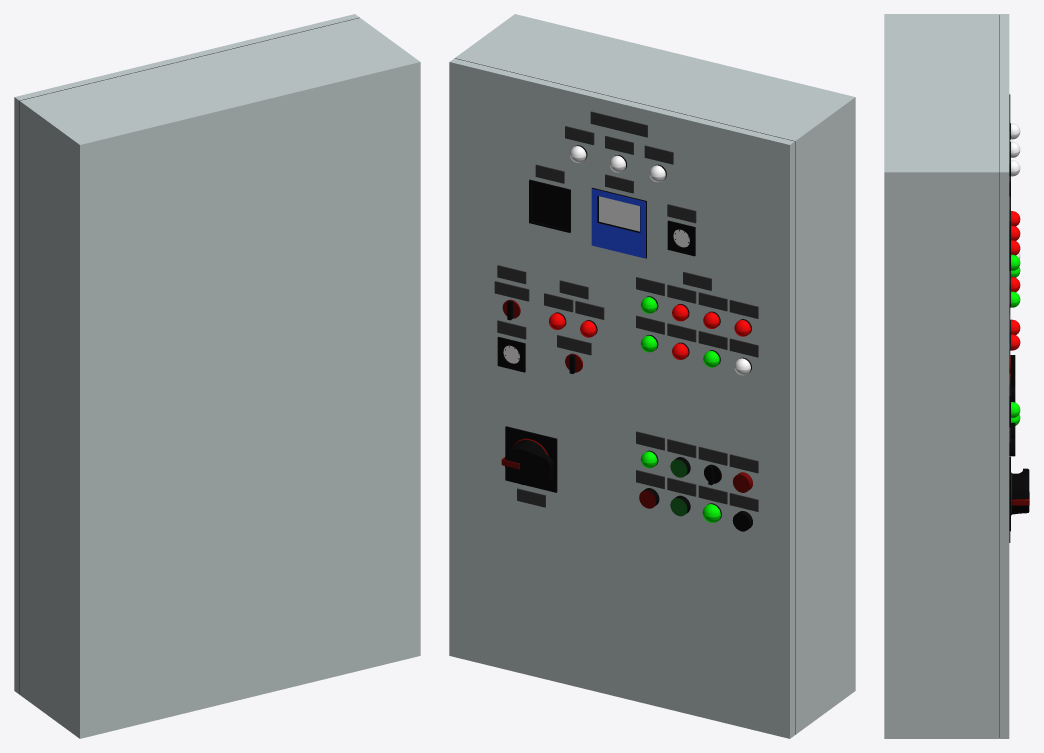
3 views of the same model, side by side, from view 1: azimuth 30°, elevation 25°; view 2: azimuth 150°, elevation 25°; view 3: azimuth 270°, elevation 25° (orthographic). The views are drawn at different scales.
Visible parts, largest first — view 1: 电箱214; view 2: 电箱214; view 3: 电箱214.
Part boxes in pixels (x1=…): 电箱214: x1=14, y1=14, x2=420, y2=738; 电箱214: x1=449, y1=14, x2=855, y2=738; 电箱214: x1=884, y1=14, x2=1029, y2=738.
Size of the model in its own units: 600 by 1000 by 233.
